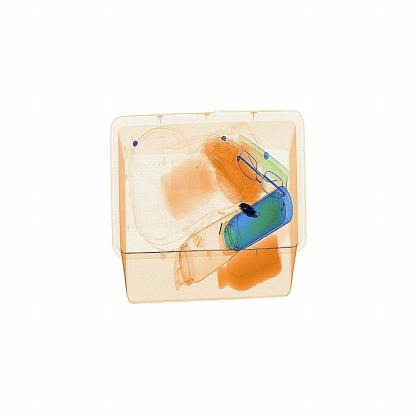scissors: (231, 191, 269, 228)
